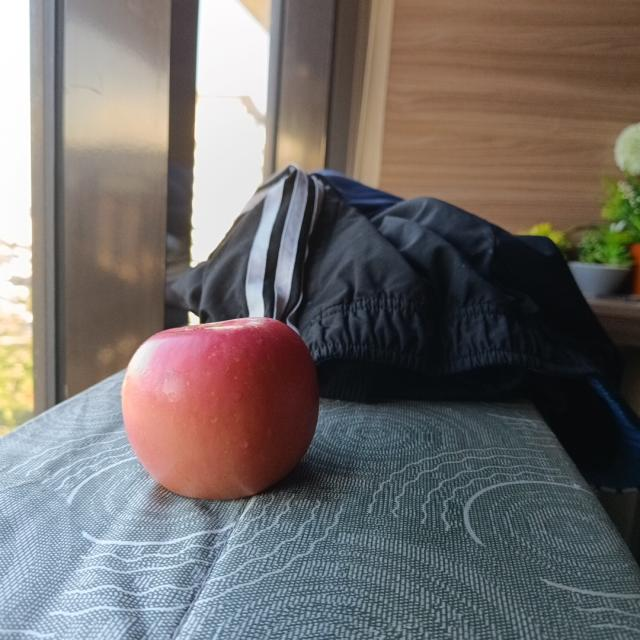apple: (122, 318, 318, 499)
